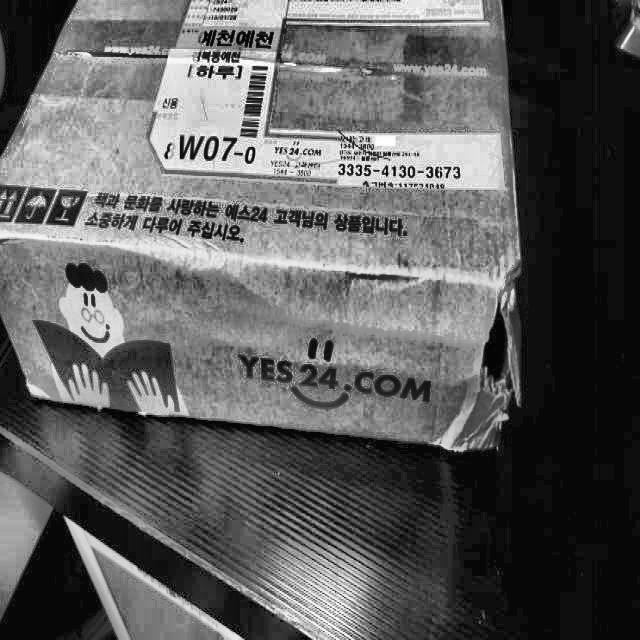box: (0, 0, 546, 466)
hole: (473, 276, 521, 418)
